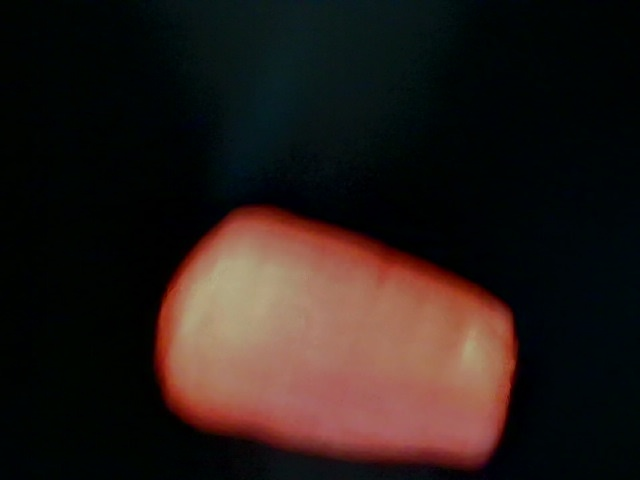YHLJ: (232, 204, 528, 271)
